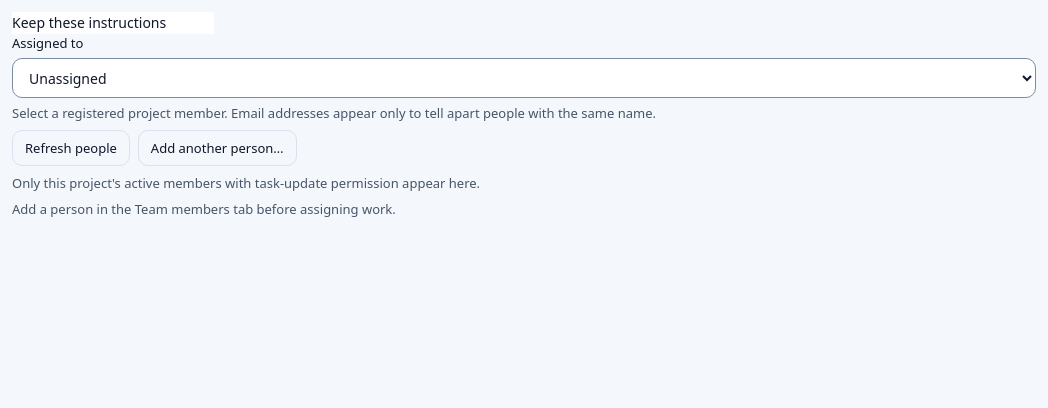
Inline member addition › grants access only after confirmation and preserves the task draft
Click the 2nd button named "Add another person…": (217, 148) [138, 130, 297, 166]
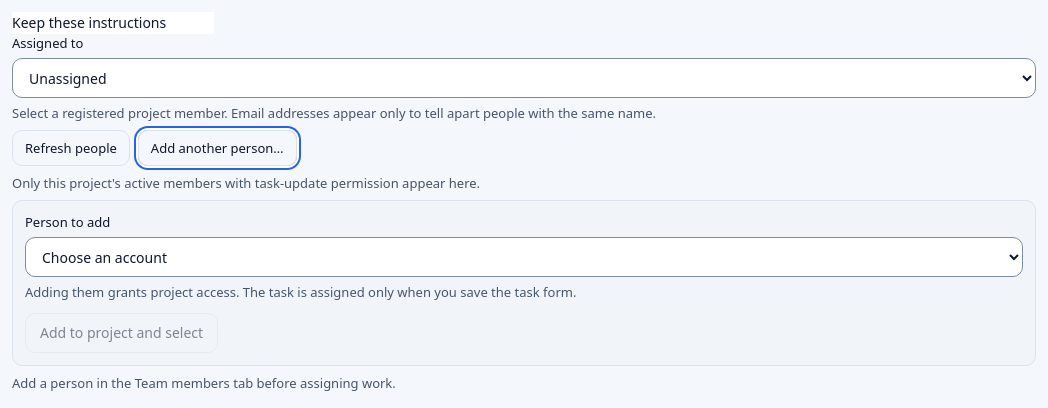
Select "Synthetic Engineer · engineer@test.example.com" in the dropdown labelled "Person to add": (524, 257) [25, 237, 1023, 277]
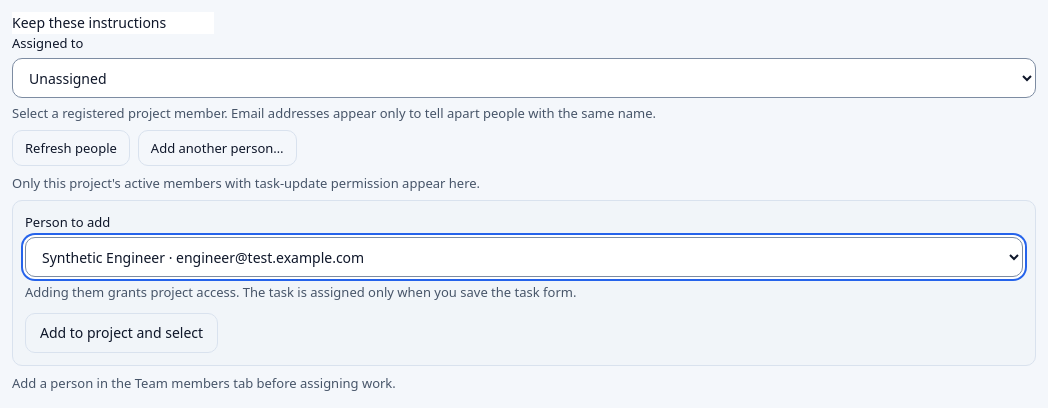
Check: the text "Adding them grants project access" is shown, box [25, 283, 576, 301]
Click the button named "Add to project and select" below "Person to add": (122, 333) [25, 313, 218, 353]
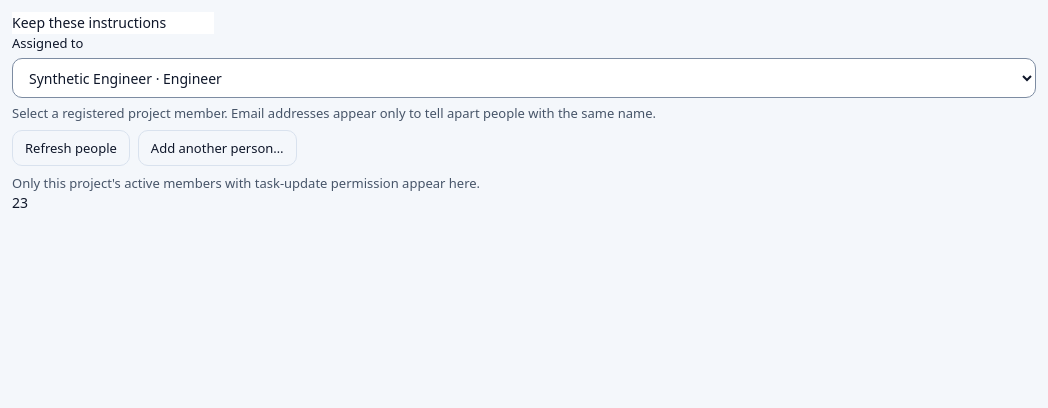
Check: the field named "Task draft" holds "Keep these instructions", box [12, 12, 214, 34]
Check: the text named "Chosen account" reads "23", box [12, 193, 28, 212]
Check: the dropdown labelled "Assigned to" shows "Synthetic Engineer · Engineer", box [12, 58, 1036, 98]
